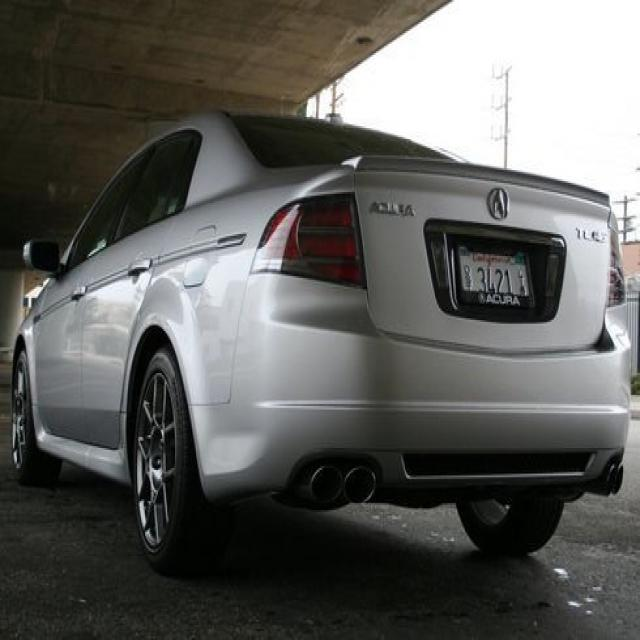car: (12, 104, 628, 576)
